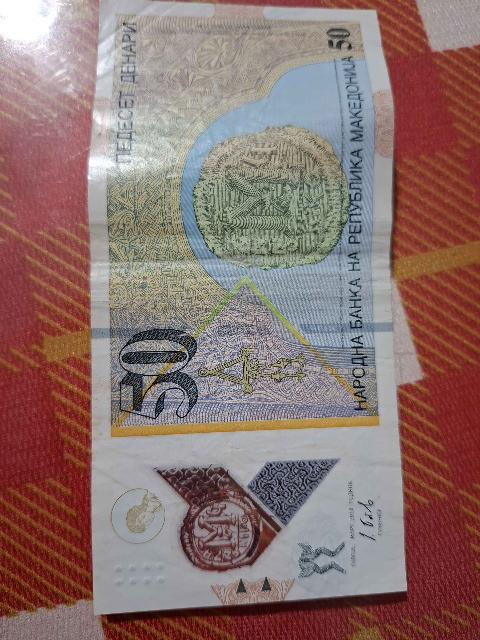note: (85, 0, 408, 607)
